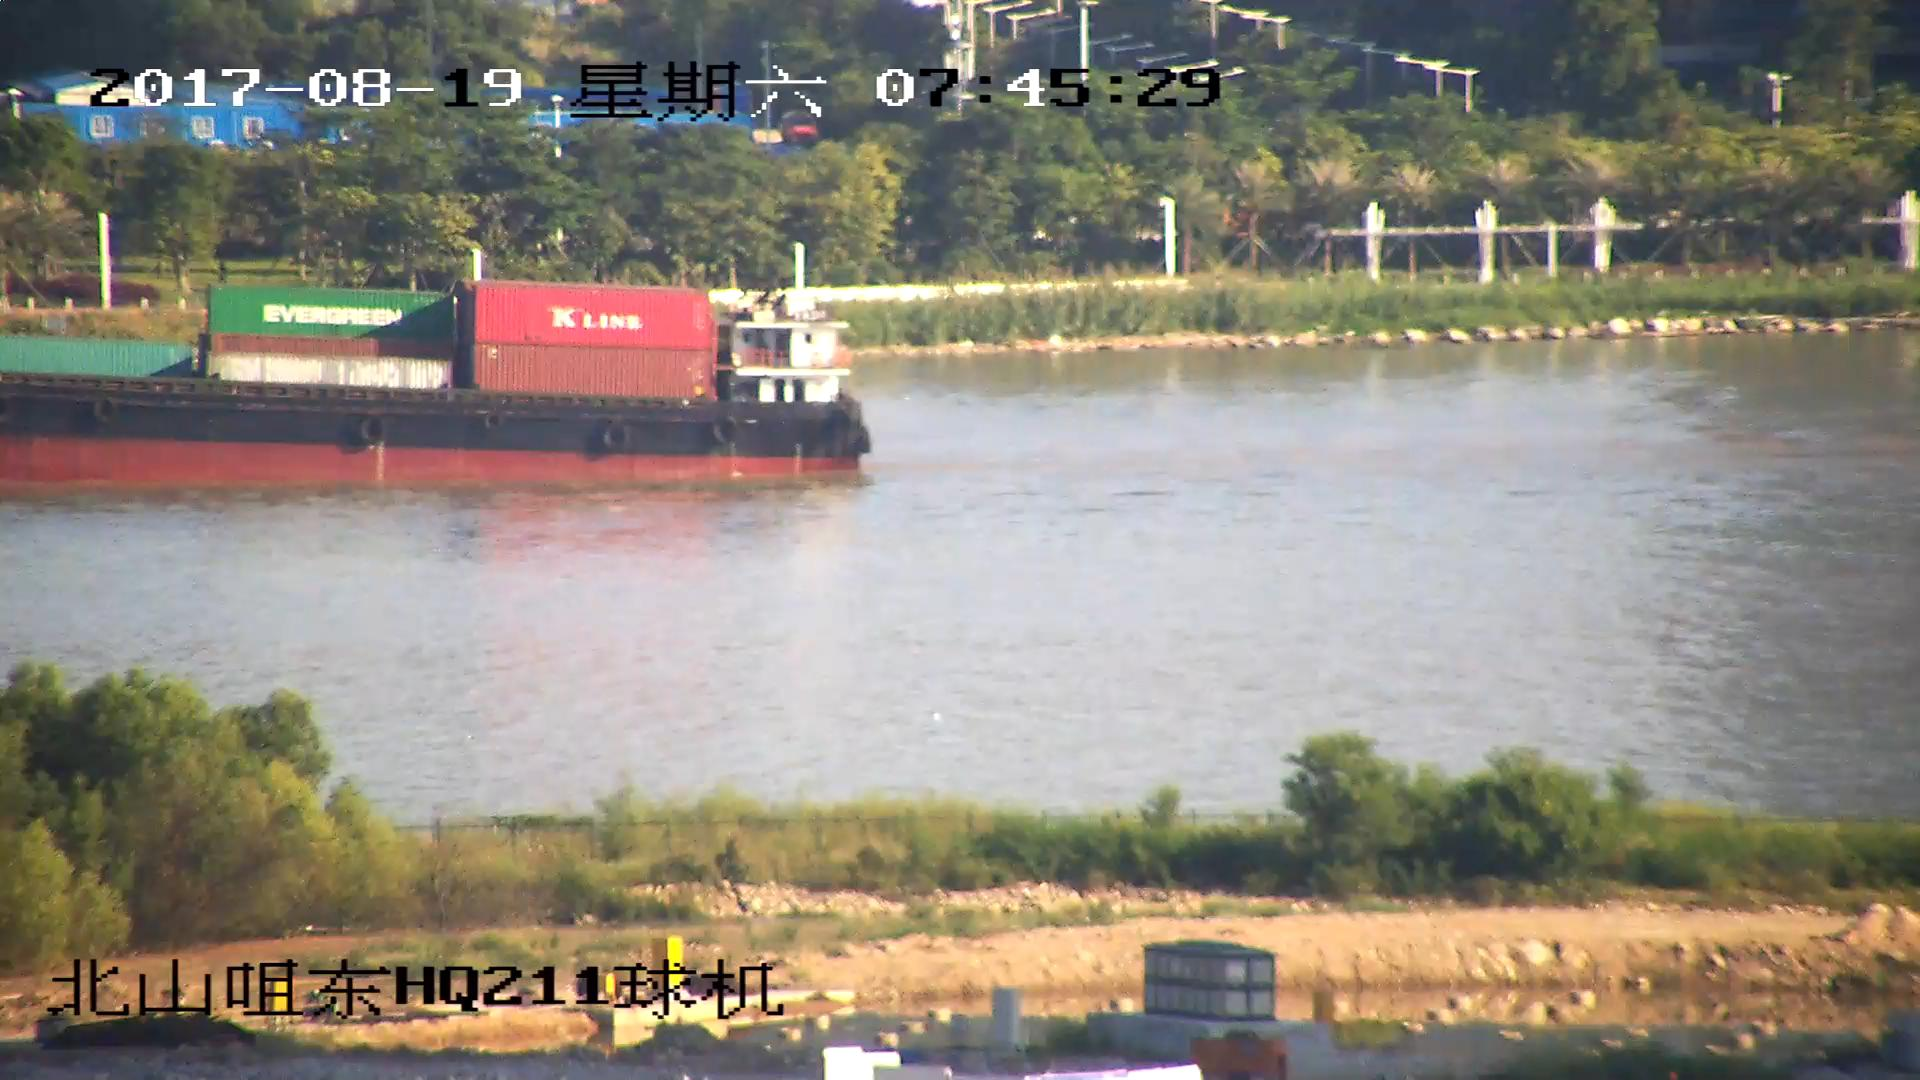container ship: (1, 282, 871, 494)
